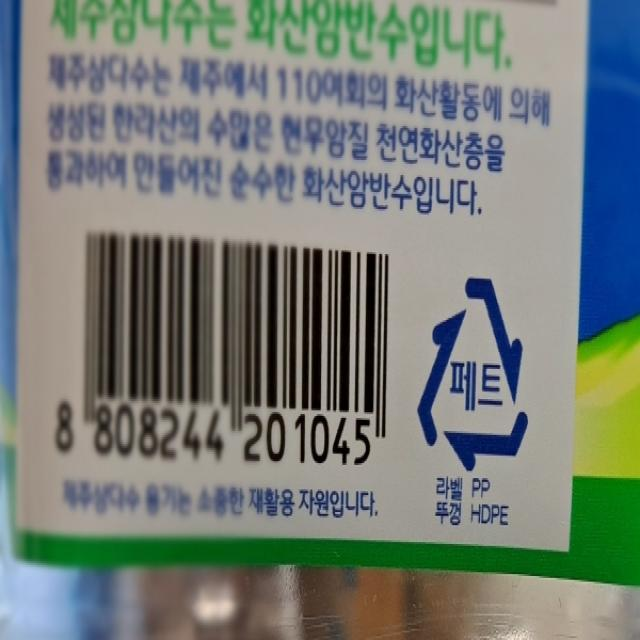PET: (413, 267, 536, 475)
